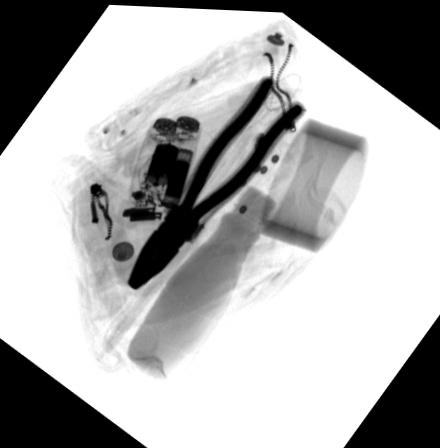Pliers: (125, 71, 307, 290)
